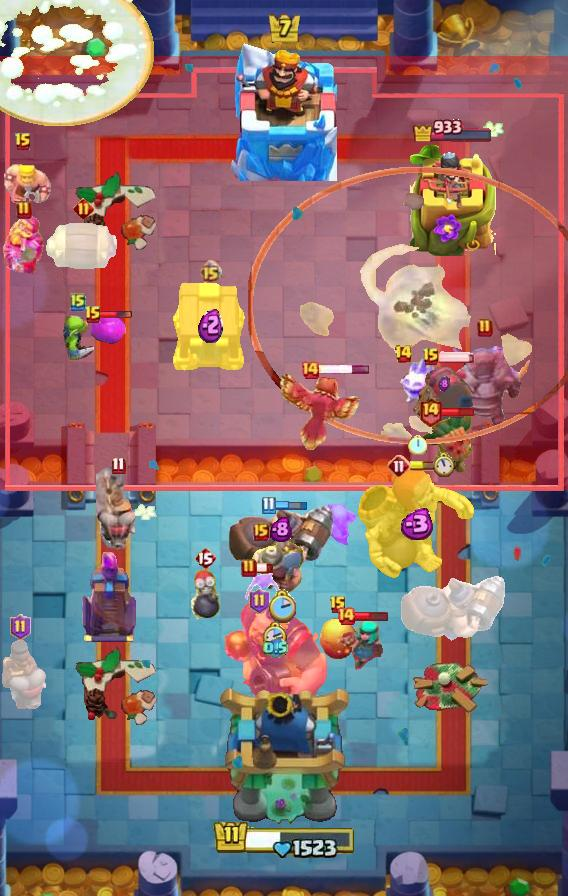archer: (0, 157, 52, 209)
bandit: (244, 537, 306, 607)
barbarian: (244, 568, 282, 606)
bomb: (170, 279, 250, 373)
clock: (212, 816, 356, 858)
electro-giant: (354, 468, 476, 580)
electro-spirit: (396, 508, 435, 540), (197, 307, 222, 343), (270, 516, 292, 542), (263, 637, 288, 659), (438, 376, 450, 392)
elite-barbarian: (0, 637, 52, 711), (96, 466, 140, 552)
elixir: (268, 589, 296, 623), (263, 621, 288, 651), (433, 452, 455, 478), (408, 434, 427, 455)
emote: (318, 364, 371, 375), (438, 351, 476, 363), (440, 406, 476, 418), (355, 610, 390, 622), (272, 500, 307, 511), (409, 461, 445, 471), (99, 310, 133, 320), (254, 562, 274, 574)
firecracker-evolution: (1, 213, 47, 275)
goblin-barrel: (420, 412, 476, 476)
golden-knight: (279, 368, 365, 450)
golemite: (437, 340, 533, 426)
hog: (318, 617, 358, 661)
ice-golem: (188, 568, 222, 624)
ice-spirit-evolution-symbol: (79, 552, 139, 644)
king-tower: (216, 684, 352, 826), (231, 43, 337, 181)
lightning: (222, 597, 329, 707)
miner: (90, 316, 126, 346)
mirror: (397, 354, 437, 406)
phoenix-big: (0, 0, 154, 126)
queen-tower: (410, 144, 496, 255)
royal-ghost: (248, 168, 568, 445)
royal-giant-evolution: (410, 362, 478, 432)
selected: (412, 116, 494, 142)
text: (417, 396, 442, 427), (387, 454, 411, 478), (249, 588, 270, 614), (9, 614, 30, 640), (198, 260, 221, 283), (194, 546, 216, 570), (73, 197, 94, 219), (300, 360, 320, 380), (336, 606, 356, 626), (395, 344, 414, 364), (14, 132, 32, 152), (84, 305, 102, 325), (422, 347, 440, 367), (329, 595, 347, 615), (16, 200, 32, 220), (70, 292, 86, 312), (477, 318, 493, 338), (241, 558, 257, 578), (253, 523, 269, 541), (110, 456, 125, 475), (261, 497, 275, 515)
the-log: (45, 223, 121, 273)
witch: (338, 618, 384, 670)
wizard: (225, 503, 337, 573), (397, 573, 509, 643)
zap: (57, 306, 99, 364), (318, 501, 356, 547)
